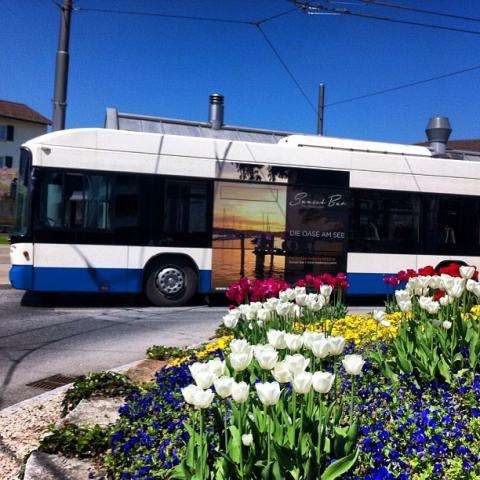bus: (7, 127, 479, 307)
